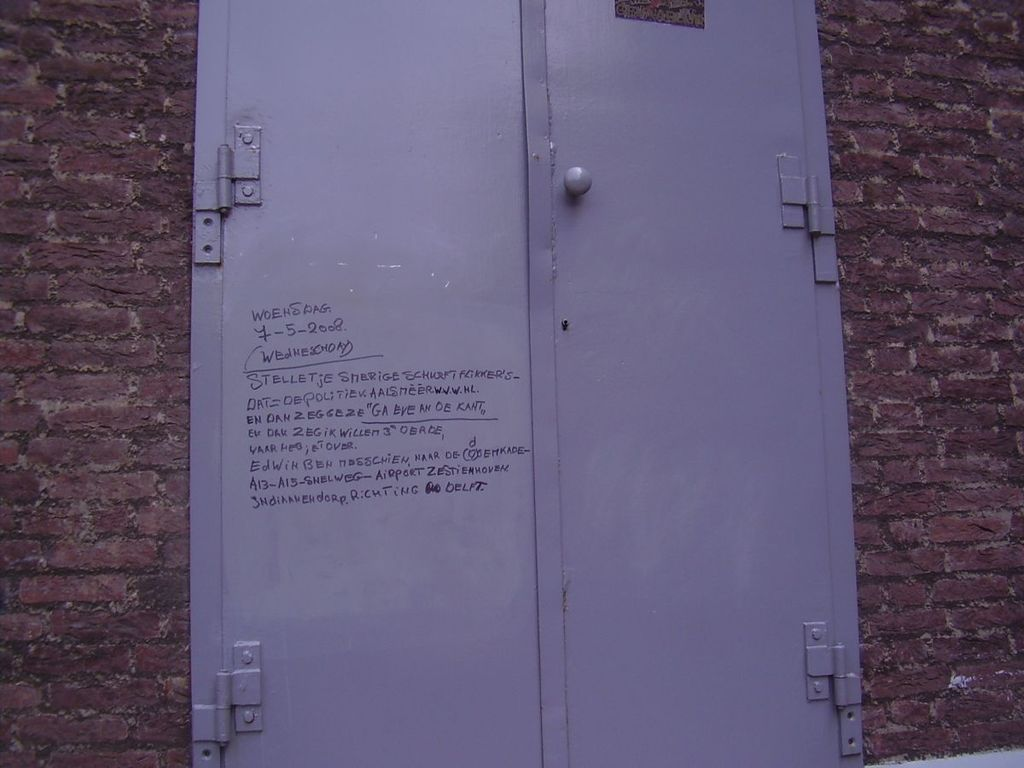Door: (222, 0, 842, 767)
